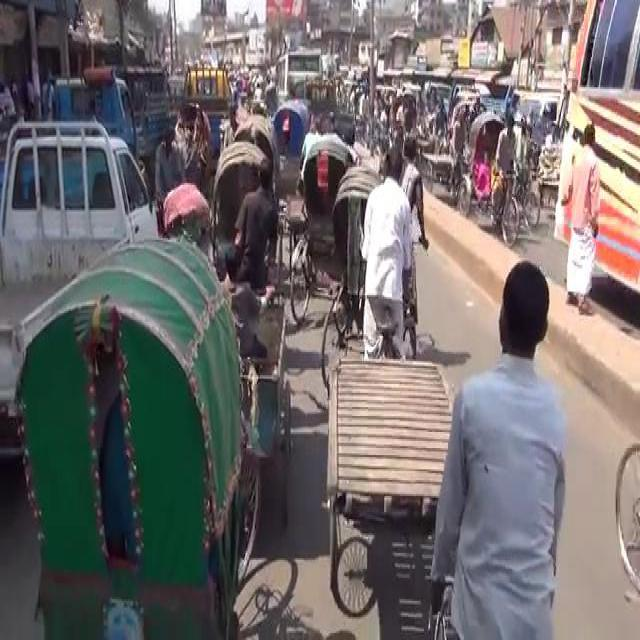bus: (552, 0, 638, 299), (273, 48, 323, 101)
pickup: (2, 110, 158, 462), (46, 63, 148, 182)
rickshaw: (11, 231, 262, 637), (318, 154, 419, 401), (287, 129, 359, 326), (454, 105, 522, 247), (211, 136, 273, 284), (270, 97, 306, 198), (388, 92, 414, 143), (347, 78, 369, 118), (425, 82, 437, 114)
truck: (140, 56, 234, 196)
